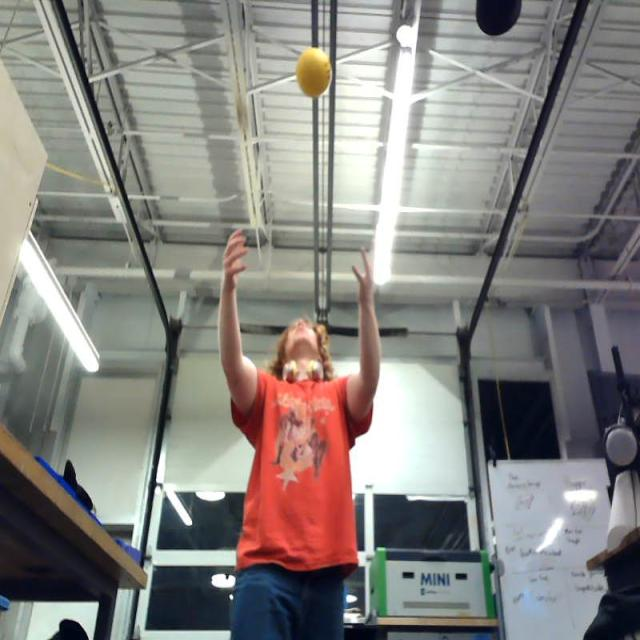Fuel: (296, 48, 332, 97)
